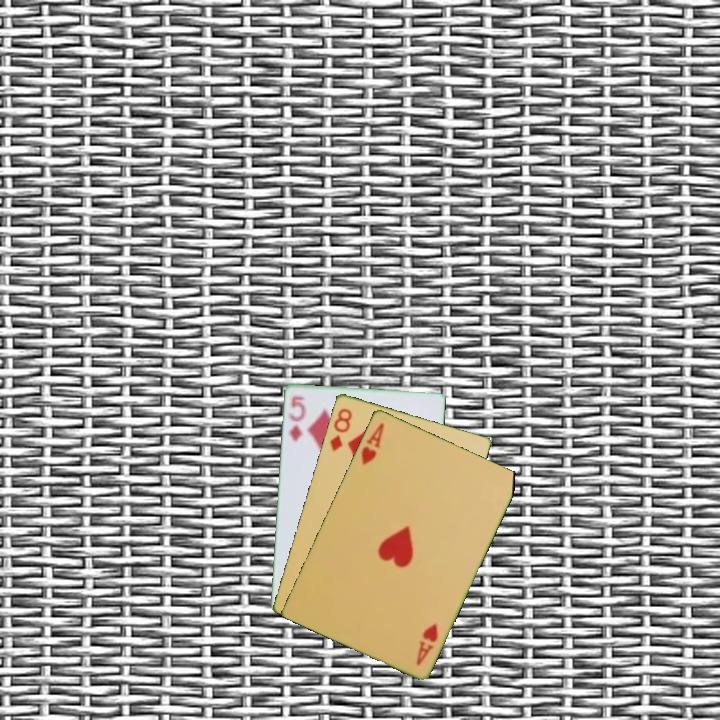5d: (285, 392, 309, 444)
8d: (326, 404, 355, 454)
Ah: (357, 419, 387, 468), (412, 620, 441, 668)
